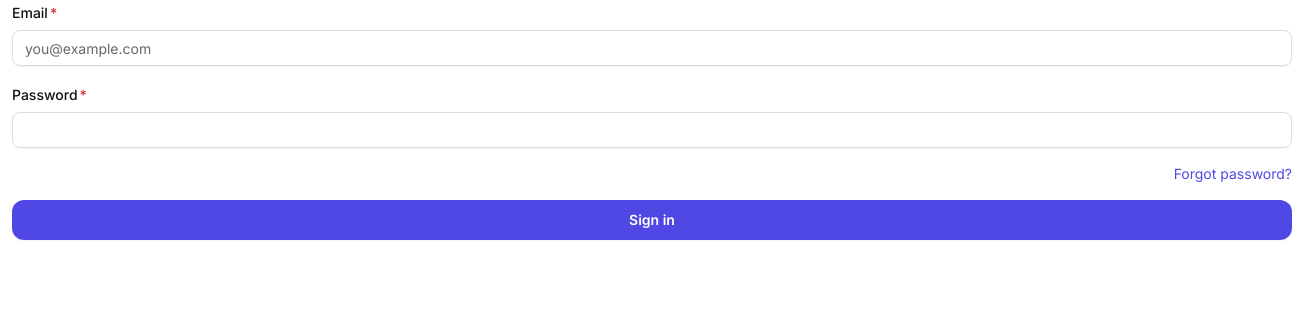
Test case: LoginForm › shows an error message when credentials are wrong
In the field labelled "Email*": {"x": 652, "y": 48} [12, 30, 1292, 66], type "jane@example.com"
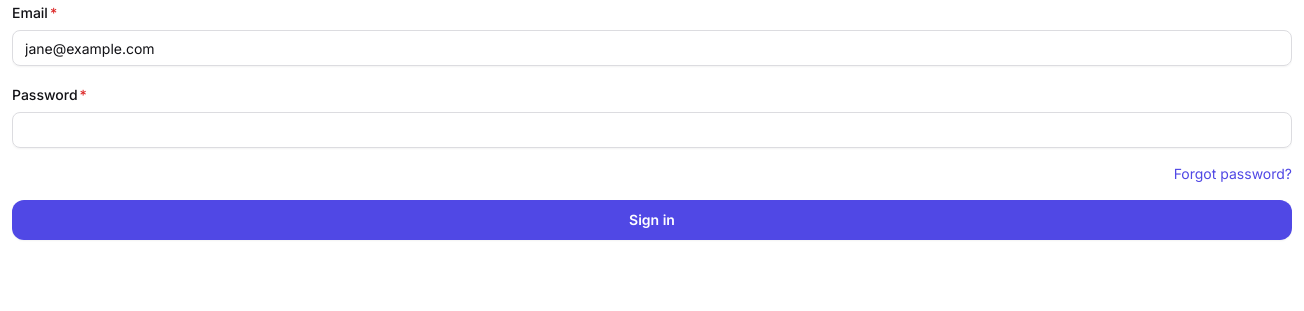
In the password field labelled "Password*": {"x": 652, "y": 130} [12, 112, 1292, 148], type "wrong"
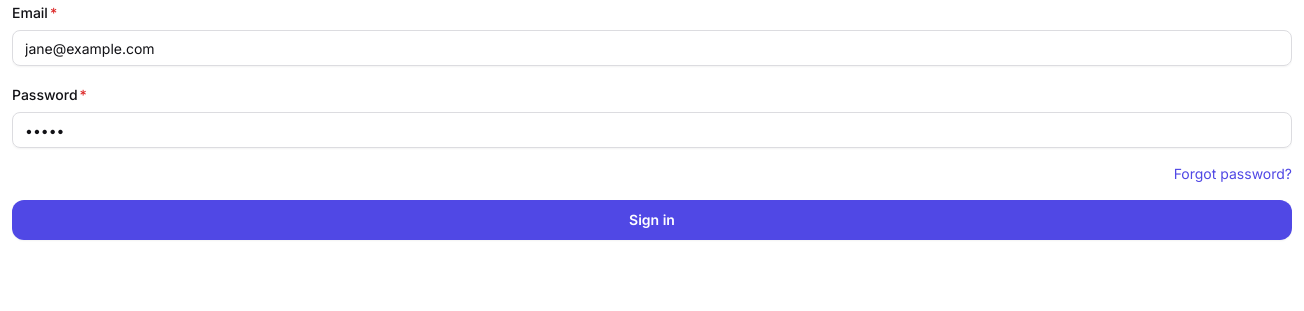
Click the button "Sign in": {"x": 652, "y": 220} [12, 200, 1292, 240]
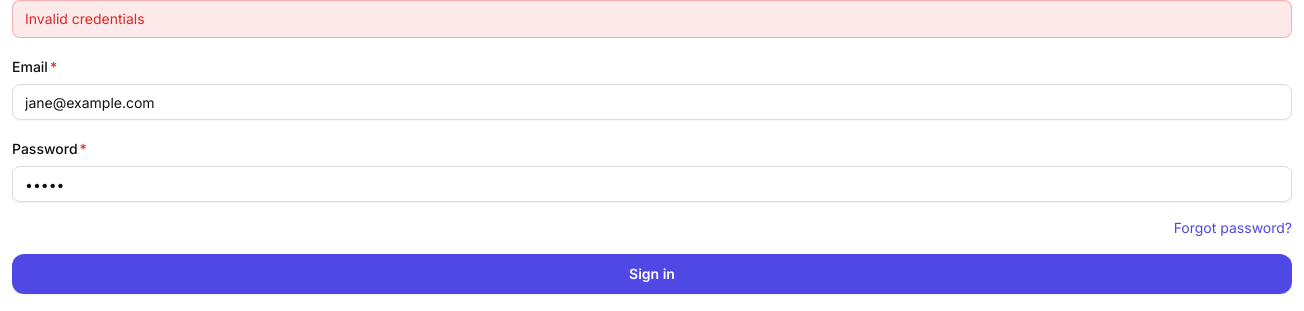
expect the message reads "Invalid credentials": met, box [25, 10, 145, 27]
